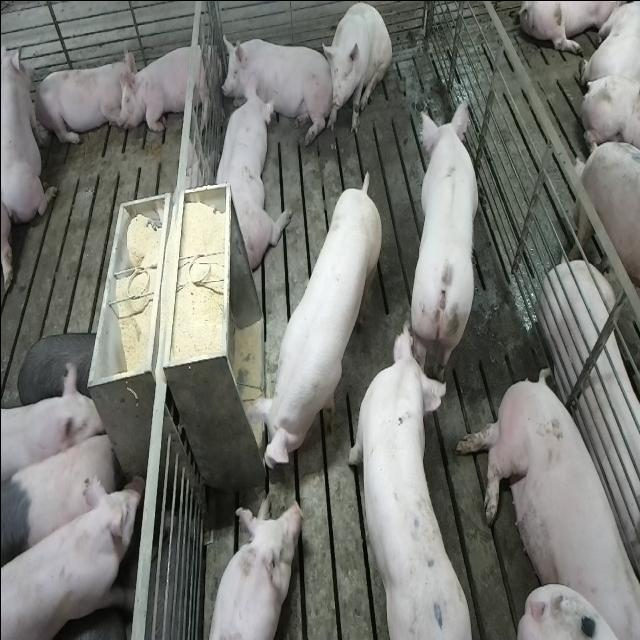Lateral_lying: (454, 362, 636, 636), (538, 259, 640, 578)
Sitting: (322, 3, 390, 138)
Standing: (344, 313, 473, 635), (253, 170, 380, 478), (2, 472, 142, 640), (408, 102, 480, 380), (2, 426, 120, 574), (568, 140, 640, 357), (0, 362, 102, 497)
Sternal_lying: (202, 493, 300, 638), (210, 85, 282, 272), (220, 28, 326, 138), (3, 31, 56, 225), (31, 52, 131, 148), (118, 36, 214, 136)
